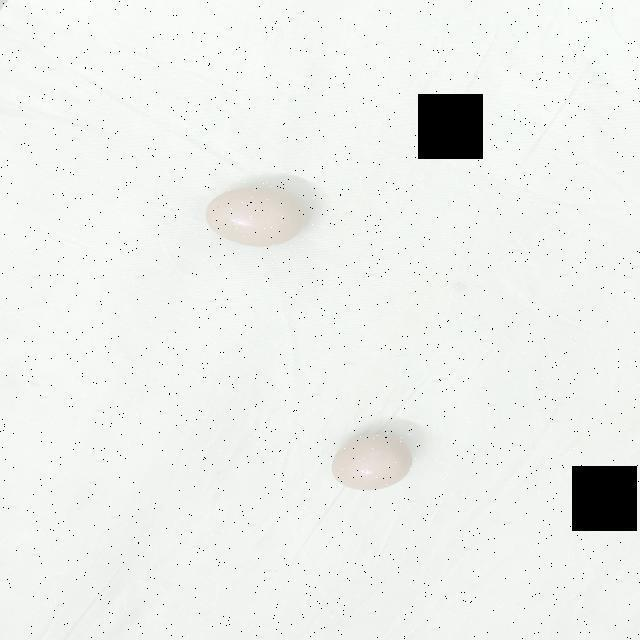egg: (200, 184, 310, 253), (329, 431, 418, 496)
